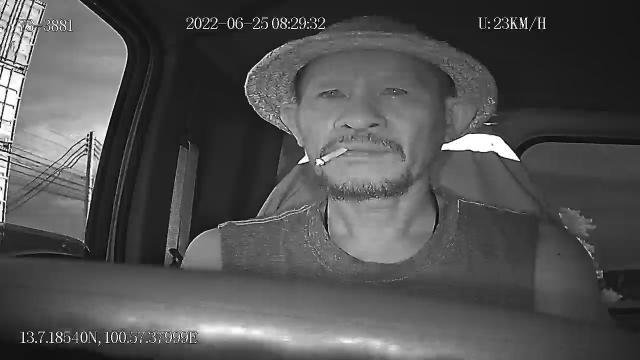SafeDriving: (372, 78, 416, 102), (314, 79, 352, 103)
Smoking: (314, 146, 348, 168)
